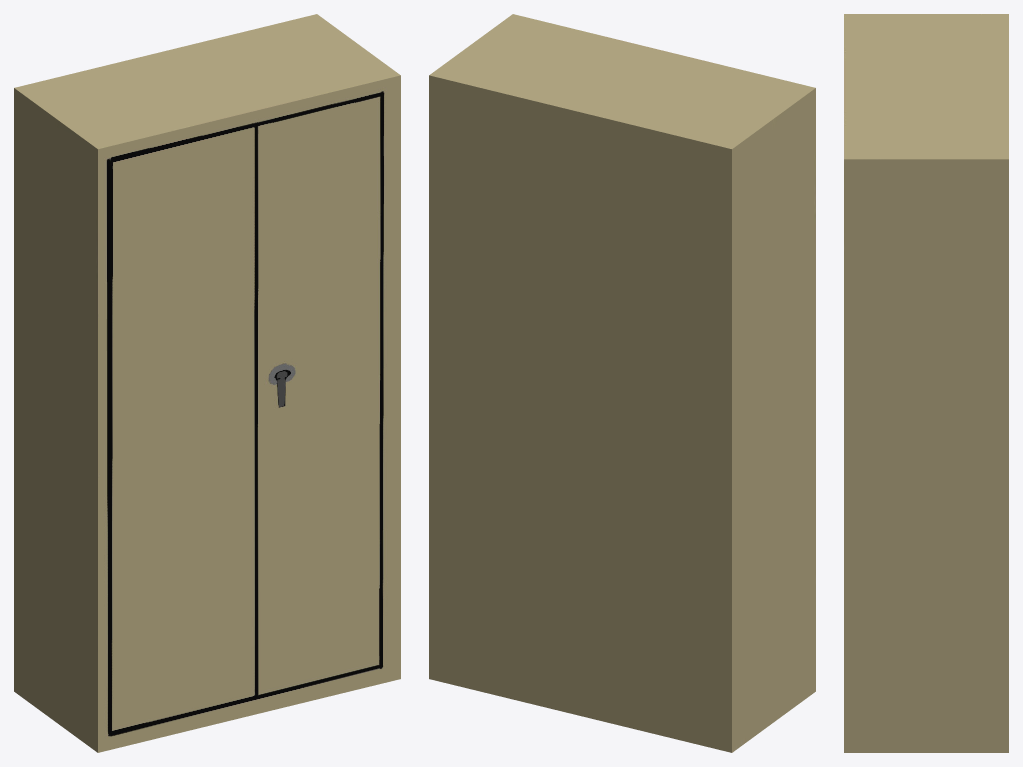
The model's file is Closet.fbx.
3 renders of one model, left to right at view 1: azimuth 30°, elevation 25°; view 2: azimuth 150°, elevation 25°; view 3: azimuth 270°, elevation 25°, orthographic.
Visible parts, largest first — view 1: Closet; view 2: Closet; view 3: Closet.
Part boxes in pixels (x1,y1,x2,y2): Closet: [14, 14, 400, 752]; Closet: [429, 14, 815, 752]; Closet: [844, 14, 1008, 752].
Size of the model in its own units: 48.66 by 92.65 by 23.32.
1 material, 1 textured.
